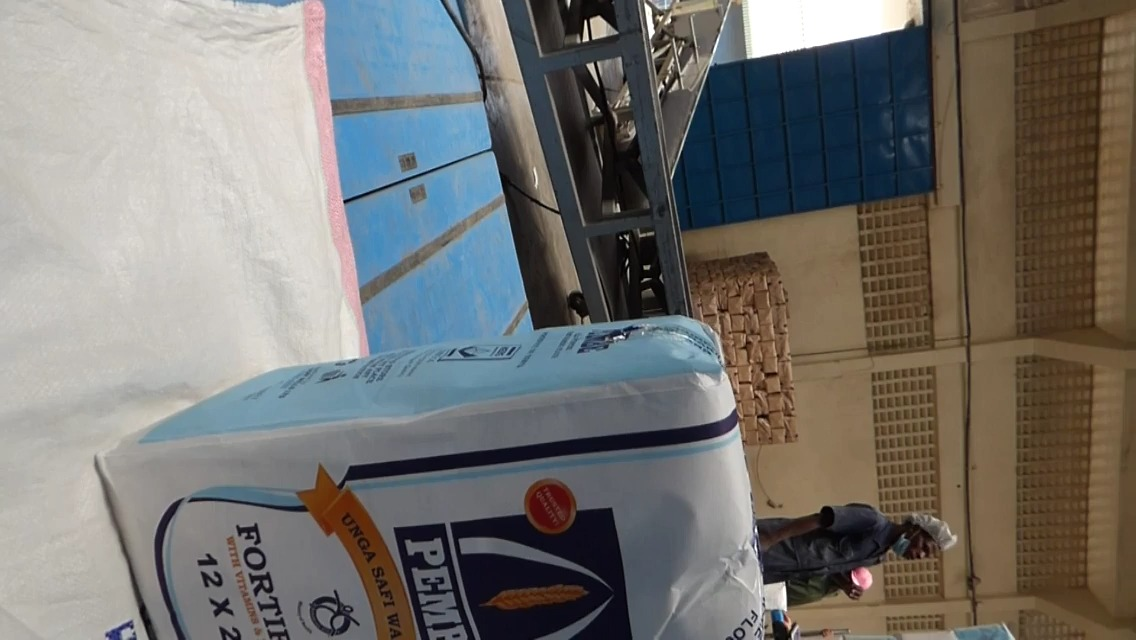wheat_flour_blue_label: (95, 318, 765, 640)
